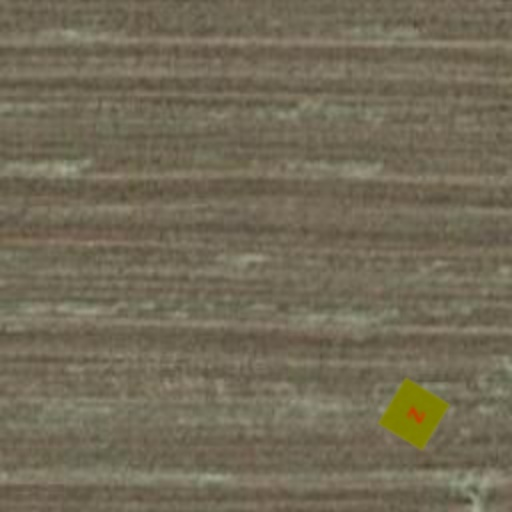rectangle: (376, 376, 452, 452)
